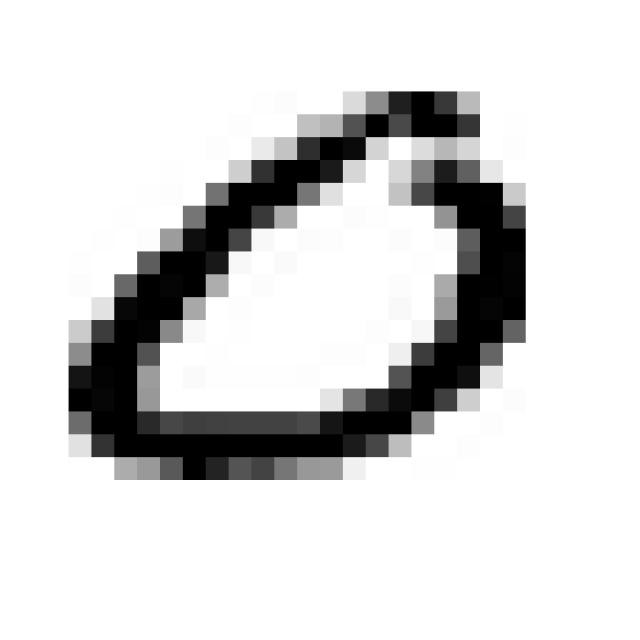5 -five-: (51, 74, 542, 498)
